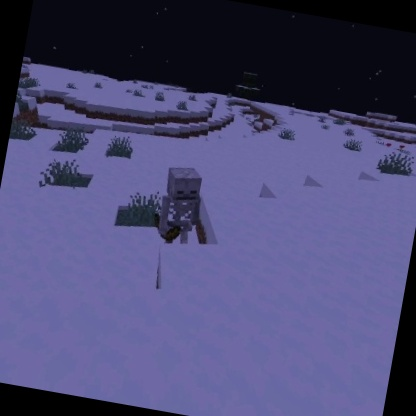skeleton: (146, 160, 210, 248)
